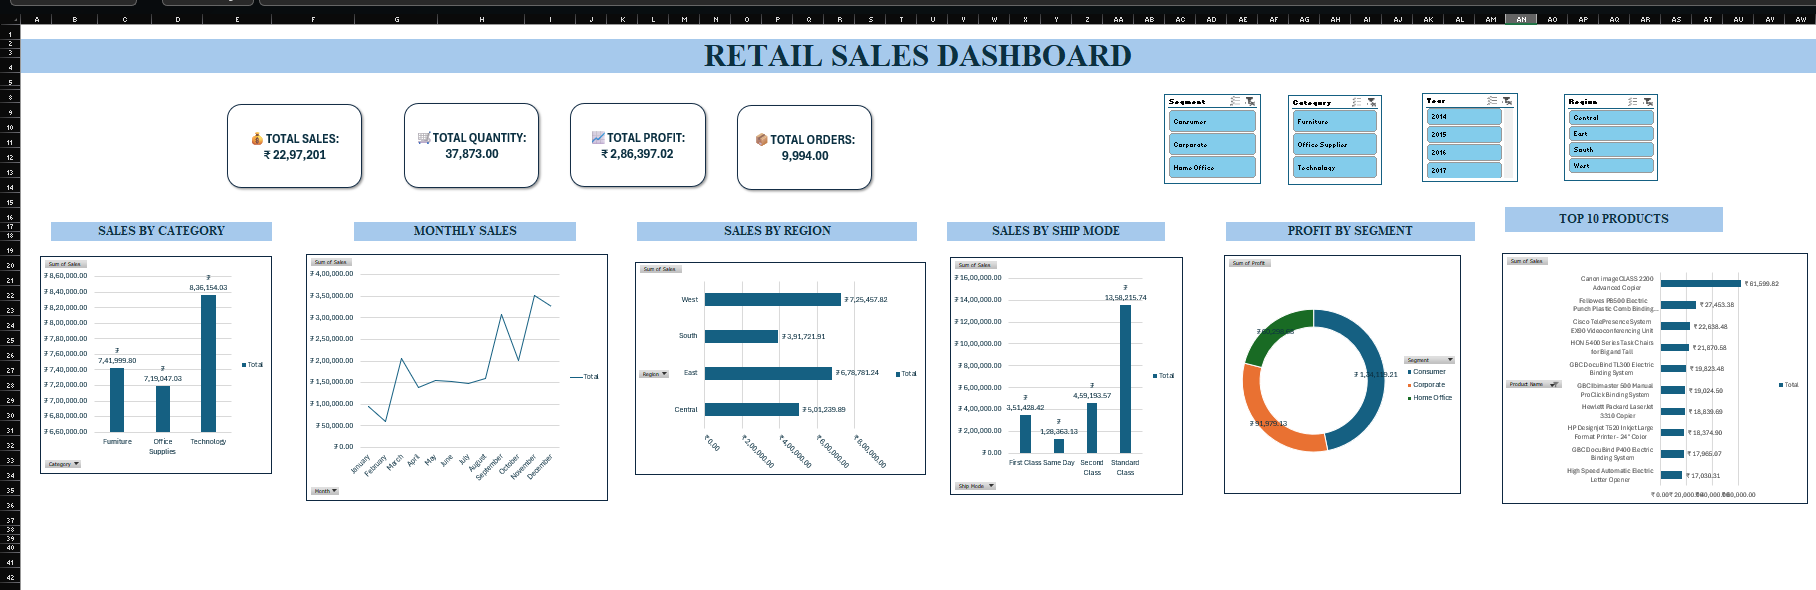

The page's visual inventory and layout, read from the dashboard file:
{"tool":"powerbi","page":{"name":"Page 1","canvas":[1280,720],"ordinal":0},"visuals":[{"type":"cardVisual","fields":{"Data":["Table1.Total Sales"]},"box":[30,66.7,230,145],"z":0},{"type":"cardVisual","fields":{"Data":["Table1.Total Profit"]},"box":[665,71.7,230,140],"z":1000},{"type":"cardVisual","fields":{"Data":["Table1.Total Quantity"]},"box":[991.7,71.7,223.3,140],"z":2000},{"type":"cardVisual","fields":{"Data":["Table1.Total Orders"]},"box":[335,68.3,241.7,145],"z":3000},{"type":"clusteredColumnChart","title":" Sales by Category","fields":{"Category":["Table1.Category"],"Y":["Table1.Total Sales"]},"box":[30,238.3,280,243.3],"z":4000},{"type":"clusteredBarChart","title":"Sales by Region","fields":{"Y":["Table1.Total Sales"],"Category":["Table1.Region"]},"box":[360,251.7,280,175],"z":5000},{"type":"lineChart","title":"Monthly Sales Trend","fields":{"Category":["Table1.Order Date.Variation.Date Hierarchy.Month"],"Y":["Table1.Total Sales"]},"box":[515,473.3,348.3,220],"z":6000},{"type":"donutChart","title":"Profit by Segment","fields":{"Y":["Table1.Total Profit"],"Category":["Table1.Segment"]},"box":[145,501.7,280,201.7],"z":7000},{"type":"barChart","title":"Top 10 products by Sales","fields":{"Category":["Table1.Product Name"],"Y":["Table1.Total Sales"]},"box":[955,461.7,295,241.7],"z":8000},{"type":"listSlicer","fields":{"Values":["Table1.Region"]},"box":[1103.3,245,166.7,163.3],"z":9000},{"type":"listSlicer","fields":{"Values":["Table1.Category"]},"box":[668.3,250,168.3,140],"z":10000},{"type":"advancedSlicerVisual","fields":{"Values":["Table1.Order Date.Variation.Date Hierarchy.Year"]},"box":[863.3,245,216.7,150],"z":11000},{"type":"textbox","box":[345,0,540,66.7],"z":12000}]}

Visuals, with their boxes on the page's 1280x720 design canvas (x1, y1, x2, y2). These are canvas units, not pixel positions in the 1816x590 screenshot, which may show the page scaled, cropped or inside an application window:
cardVisual - Table1.Total Sales: (x1=30, y1=67, x2=260, y2=212)
cardVisual - Table1.Total Profit: (x1=665, y1=72, x2=895, y2=212)
cardVisual - Table1.Total Quantity: (x1=992, y1=72, x2=1215, y2=212)
cardVisual - Table1.Total Orders: (x1=335, y1=68, x2=577, y2=213)
" Sales by Category" clusteredColumnChart: (x1=30, y1=238, x2=310, y2=482)
"Sales by Region" clusteredBarChart: (x1=360, y1=252, x2=640, y2=427)
"Monthly Sales Trend" lineChart: (x1=515, y1=473, x2=863, y2=693)
"Profit by Segment" donutChart: (x1=145, y1=502, x2=425, y2=703)
"Top 10 products by Sales" barChart: (x1=955, y1=462, x2=1250, y2=703)
listSlicer - Table1.Region: (x1=1103, y1=245, x2=1270, y2=408)
listSlicer - Table1.Category: (x1=668, y1=250, x2=837, y2=390)
advancedSlicerVisual - Table1.Order Date.Variation.Date Hierarchy.Year: (x1=863, y1=245, x2=1080, y2=395)
textbox: (x1=345, y1=0, x2=885, y2=67)
